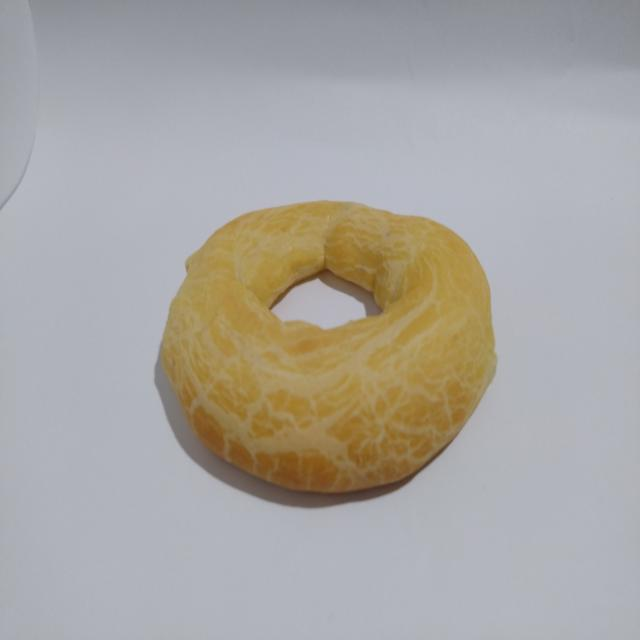Food: (155, 188, 507, 510)
